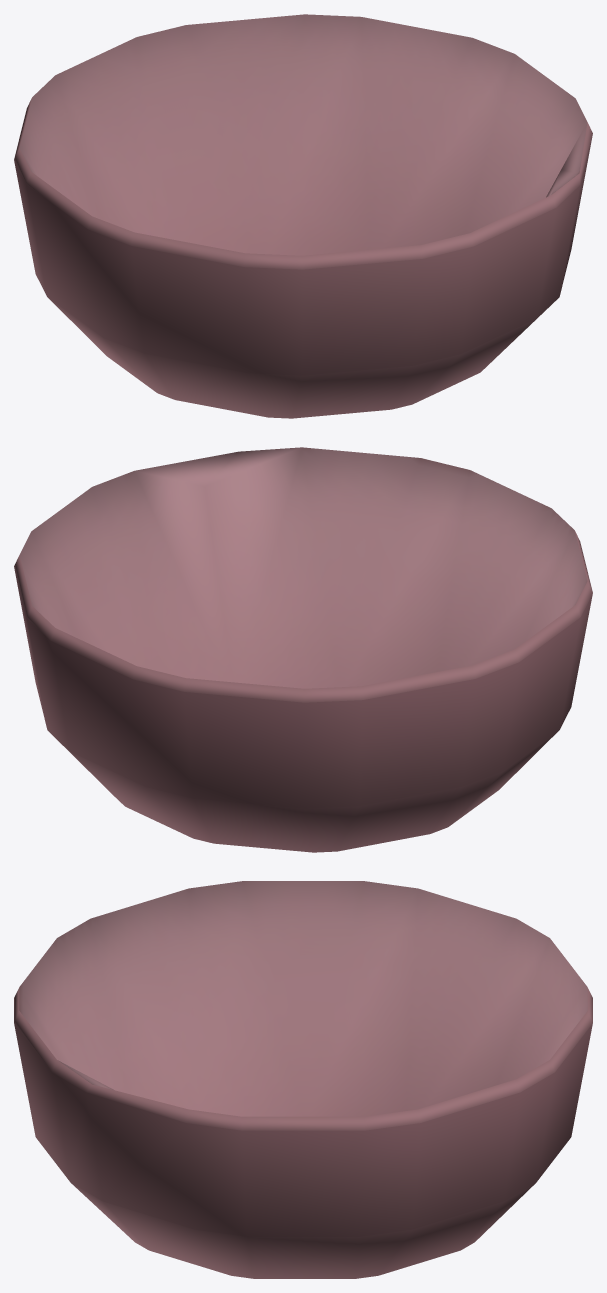
File: Bowl_C.FBX
The picture shows the model from 3 angles, top to bottom: view 1: azimuth 30°, elevation 25°; view 2: azimuth 150°, elevation 25°; view 3: azimuth 270°, elevation 25°; orthographic projection.
Visible parts, largest first — view 1: Bowl; view 2: Bowl; view 3: Bowl.
Part boxes in pixels (x1,y1,x2,y2): Bowl: (14,14,592,418); Bowl: (14,447,592,852); Bowl: (14,881,592,1278).
Bounding box in the file's own units: 74.62 × 28.7 × 75.96.
